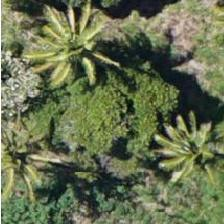Kelapa_Sawit: (20, 0, 110, 83), (142, 103, 224, 193), (0, 123, 58, 213)
